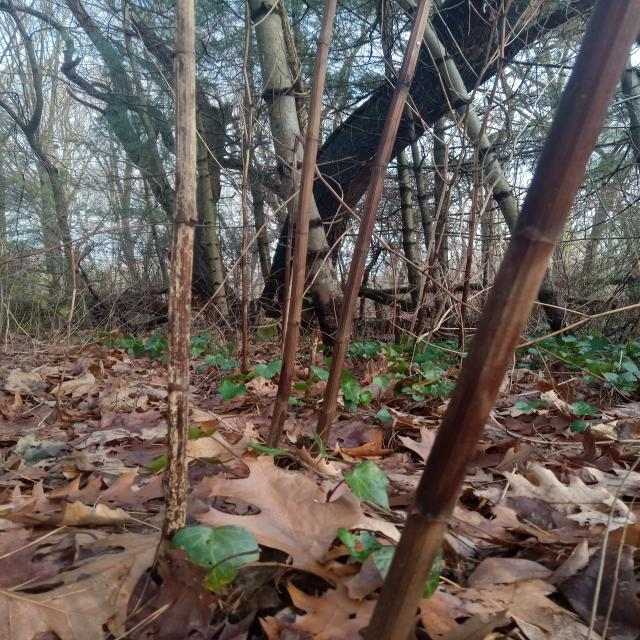knotweed-stems: (361, 1, 638, 638), (262, 1, 340, 456), (161, 1, 199, 540)
